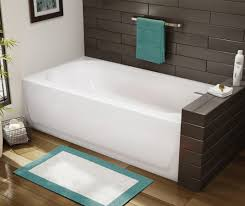bathub: (19, 46, 245, 191)
